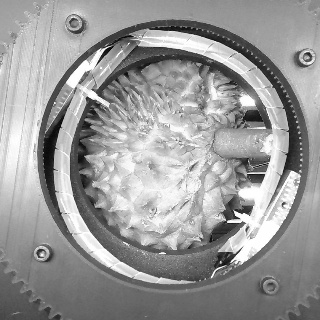base: (204, 124, 236, 165)
end: (264, 132, 274, 157)
